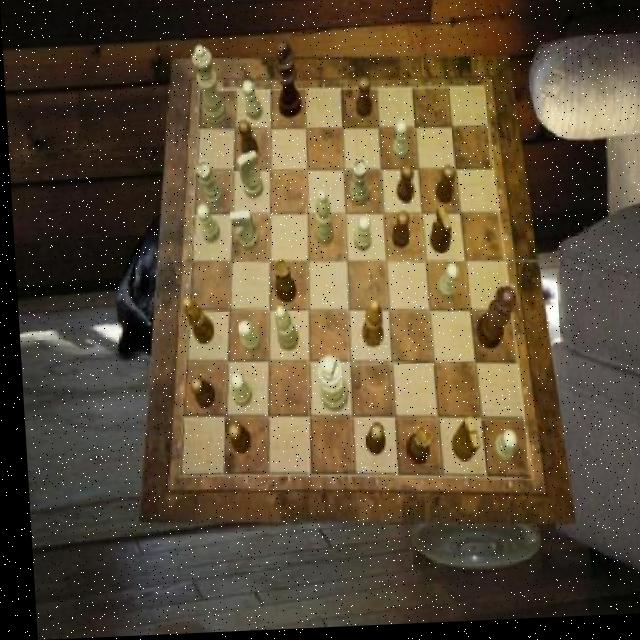bishop: (178, 298, 210, 347), (355, 303, 378, 351)
black-bishop: (273, 42, 300, 121)
black-king: (443, 420, 474, 465), (424, 209, 450, 258)
black-knight: (185, 376, 210, 411), (432, 169, 455, 207), (220, 423, 245, 456), (392, 168, 412, 207), (236, 122, 256, 161), (352, 81, 371, 122), (359, 424, 380, 459), (388, 216, 408, 252)
black-pawn: (468, 290, 514, 354)
black-queen: (399, 429, 426, 469), (269, 261, 293, 306)
black-rook: (310, 193, 332, 250), (269, 307, 294, 353)
white-bishop: (312, 356, 344, 415)
white-king: (234, 154, 261, 203), (226, 212, 255, 254)
white-knight: (194, 207, 218, 246), (432, 268, 456, 304), (486, 434, 512, 467), (233, 322, 257, 356), (388, 123, 407, 165), (242, 82, 261, 123), (225, 374, 247, 409), (350, 219, 369, 255)
white-pawn: (190, 46, 226, 129)
white-queen: (194, 162, 221, 212), (345, 162, 367, 208)
